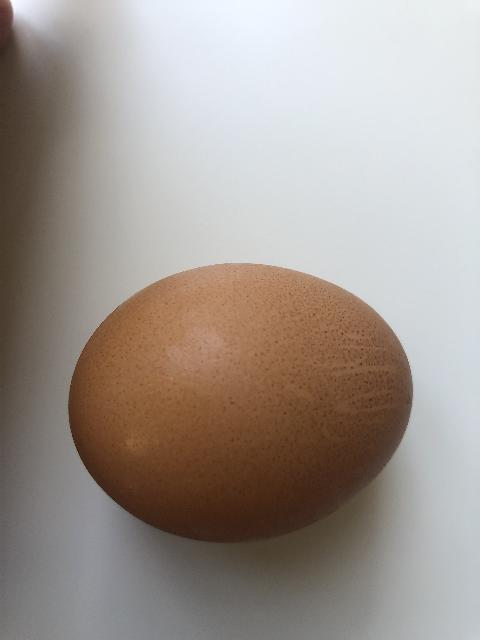Sano: (67, 260, 414, 544)
